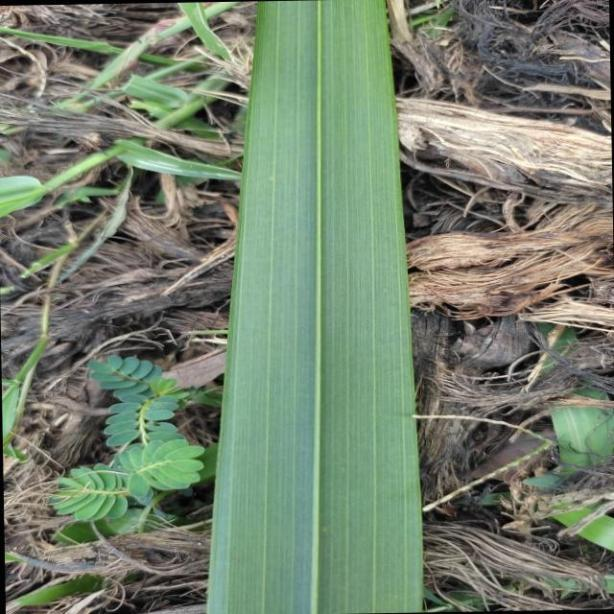Healthy: (206, 0, 424, 614)
